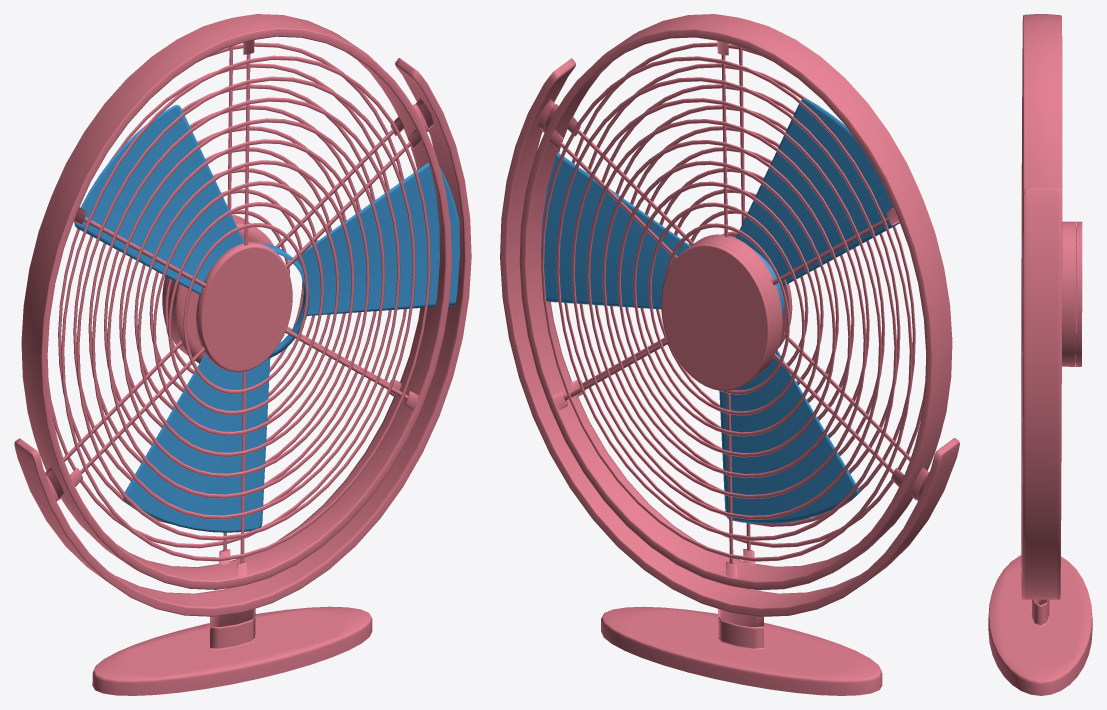
Rendered from Ventilador blender.fbx.
3 views of the same model, side by side, from view 1: azimuth 30°, elevation 25°; view 2: azimuth 150°, elevation 25°; view 3: azimuth 270°, elevation 25° (orthographic). The views are drawn at different scales.
Visible parts, largest first — view 1: Cylinder.002; view 2: Cylinder.002; view 3: Cylinder.002.
Part boxes in pixels (bbox=[...]): Cylinder.002: bbox=[14, 14, 471, 695]; Cylinder.002: bbox=[500, 14, 959, 695]; Cylinder.002: bbox=[988, 14, 1092, 695].
Bounding box in the file's own units: 326 × 449 × 70.2.
Materials: 3 (3 with a texture image).
